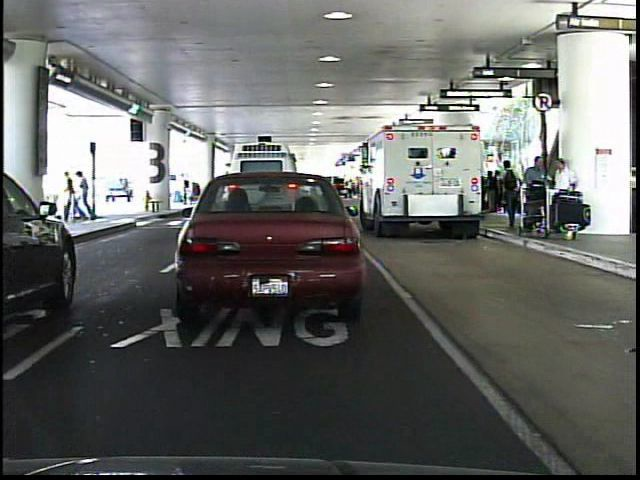person: (58, 168, 79, 224), (75, 167, 95, 223)
